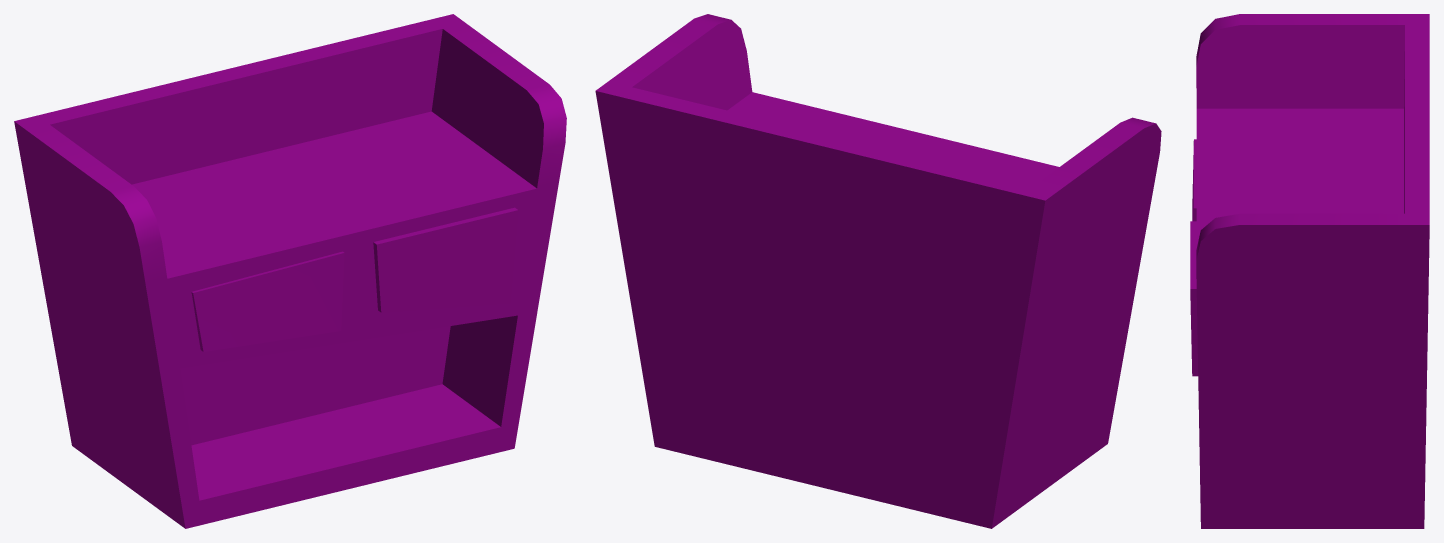
The model's file is SideSHelf.FBX.
The picture shows the model from 3 angles, left to right: view 1: azimuth 30°, elevation 25°; view 2: azimuth 150°, elevation 25°; view 3: azimuth 270°, elevation 25°; orthographic projection. The views are drawn at different scales.
Visible parts, largest first — view 1: PRP_SideShelf_1; view 2: PRP_SideShelf_1; view 3: PRP_SideShelf_1.
Boxes of the visible parts, left/top/right/bottom form: PRP_SideShelf_1: left=14, top=14, right=566, bottom=528; PRP_SideShelf_1: left=595, top=14, right=1161, bottom=528; PRP_SideShelf_1: left=1190, top=14, right=1429, bottom=528.
Bounding box in the file's own units: 149 × 109 × 71.44.
